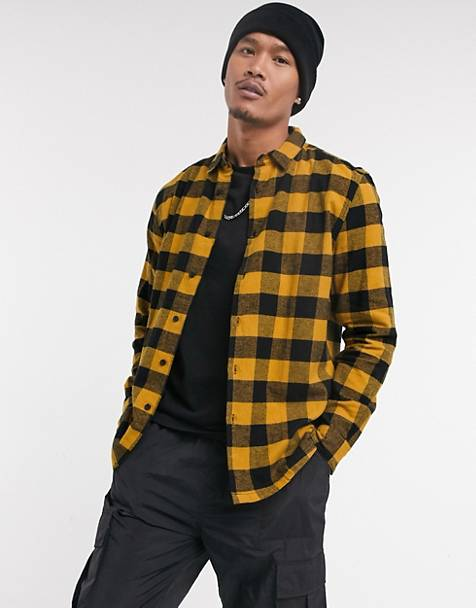squared: (107, 123, 404, 504)
